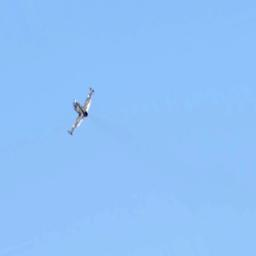Airplane: (65, 86, 95, 137)
